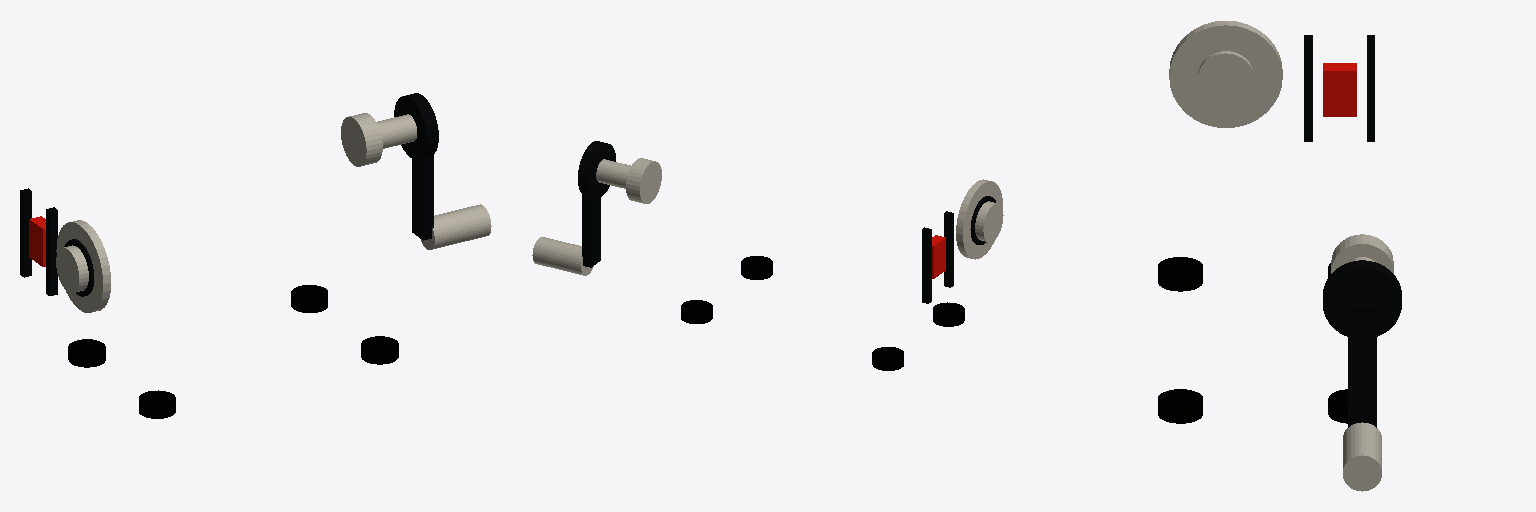
URDF robot description (compact_office_pencil_sharpener):
<robot name="compact_office_pencil_sharpener">
  <material name="mint_plastic">
    <color rgba="0.55 0.78 0.72 1" />
    </material>
  <material name="charcoal_plastic">
    <color rgba="0.05 0.055 0.06 1" />
    </material>
  <material name="smoked_tray">
    <color rgba="0.16 0.18 0.2 1" />
    </material>
  <material name="brushed_metal">
    <color rgba="0.72 0.7 0.65 1" />
    </material>
  <material name="red_selector">
    <color rgba="0.85 0.1 0.06 1" />
    </material>
  <material name="rubber">
    <color rgba="0.015 0.015 0.014 1" />
    </material>
  <link name="housing">
    <visual name="body_shell">
      <geometry>
        <mesh filename="assets/meshes/rounded_housing.obj" />
        </geometry>
      <material name="mint_plastic">
        <color rgba="0.55 0.78 0.72 1" />
        </material>
      </visual>
    <visual name="entry_bezel">
      <origin xyz="-0.082 -0.014 0.012" rpy="0 1.5708 0" />
      <geometry>
        <cylinder radius="0.02" length="0.004" />
        </geometry>
      <material name="brushed_metal">
        <color rgba="0.72 0.7 0.65 1" />
        </material>
      </visual>
    <visual name="entry_shadow">
      <origin xyz="-0.0845 -0.014 0.012" rpy="0 1.5708 0" />
      <geometry>
        <cylinder radius="0.0125" length="0.0015" />
        </geometry>
      <material name="charcoal_plastic">
        <color rgba="0.05 0.055 0.06 1" />
        </material>
      </visual>
    <visual name="inner_cutter">
      <origin xyz="-0.084 -0.014 0.012" rpy="0 1.5708 0" />
      <geometry>
        <cylinder radius="0.01" length="0.012" />
        </geometry>
      <material name="brushed_metal">
        <color rgba="0.72 0.7 0.65 1" />
        </material>
      </visual>
    <visual name="selector_rail_0">
      <origin xyz="-0.081 0.015 0.007" rpy="0 0 0" />
      <geometry>
        <box size="0.004 0.003 0.04" />
        </geometry>
      <material name="charcoal_plastic">
        <color rgba="0.05 0.055 0.06 1" />
        </material>
      </visual>
    <visual name="selector_rail_1">
      <origin xyz="-0.081 0.037 0.007" rpy="0 0 0" />
      <geometry>
        <box size="0.004 0.003 0.04" />
        </geometry>
      <material name="charcoal_plastic">
        <color rgba="0.05 0.055 0.06 1" />
        </material>
      </visual>
    <visual name="crank_bushing">
      <origin xyz="0.083 0.034 0.014" rpy="0 1.5708 0" />
      <geometry>
        <cylinder radius="0.011" length="0.008" />
        </geometry>
      <material name="brushed_metal">
        <color rgba="0.72 0.7 0.65 1" />
        </material>
      </visual>
    <visual name="foot_0">
      <origin xyz="-0.055 -0.03 -0.053" rpy="0 0 0" />
      <geometry>
        <cylinder radius="0.008" length="0.006" />
        </geometry>
      <material name="rubber">
        <color rgba="0.015 0.015 0.014 1" />
        </material>
      </visual>
    <visual name="foot_1">
      <origin xyz="-0.055 0.03 -0.053" rpy="0 0 0" />
      <geometry>
        <cylinder radius="0.008" length="0.006" />
        </geometry>
      <material name="rubber">
        <color rgba="0.015 0.015 0.014 1" />
        </material>
      </visual>
    <visual name="foot_2">
      <origin xyz="0.055 -0.03 -0.053" rpy="0 0 0" />
      <geometry>
        <cylinder radius="0.008" length="0.006" />
        </geometry>
      <material name="rubber">
        <color rgba="0.015 0.015 0.014 1" />
        </material>
      </visual>
    <visual name="foot_3">
      <origin xyz="0.055 0.03 -0.053" rpy="0 0 0" />
      <geometry>
        <cylinder radius="0.008" length="0.006" />
        </geometry>
      <material name="rubber">
        <color rgba="0.015 0.015 0.014 1" />
        </material>
      </visual>
    </link>
  <link name="tray">
    <visual name="tray_basin">
      <geometry>
        <mesh filename="assets/meshes/sliding_tray.obj" />
        </geometry>
      <material name="smoked_tray">
        <color rgba="0.16 0.18 0.2 1" />
        </material>
      </visual>
    </link>
  <link name="selector">
    <visual name="selector_tab">
      <origin xyz="-0.006 0 0" rpy="0 0 0" />
      <geometry>
        <mesh filename="assets/meshes/selector_tab.obj" />
        </geometry>
      <material name="red_selector">
        <color rgba="0.85 0.1 0.06 1" />
        </material>
      </visual>
    <visual name="selector_stem">
      <origin xyz="0.0015 0 0" rpy="0 0 0" />
      <geometry>
        <box size="0.006 0.012 0.018" />
        </geometry>
      <material name="red_selector">
        <color rgba="0.85 0.1 0.06 1" />
        </material>
      </visual>
    </link>
  <link name="crank">
    <visual name="crank_shaft">
      <origin xyz="0.01 0 0" rpy="0 1.5708 0" />
      <geometry>
        <cylinder radius="0.006" length="0.02" />
        </geometry>
      <material name="brushed_metal">
        <color rgba="0.72 0.7 0.65 1" />
        </material>
      </visual>
    <visual name="crank_hub">
      <origin xyz="0.023 0 0" rpy="0 1.5708 0" />
      <geometry>
        <cylinder radius="0.014" length="0.006" />
        </geometry>
      <material name="charcoal_plastic">
        <color rgba="0.05 0.055 0.06 1" />
        </material>
      </visual>
    <visual name="crank_arm">
      <origin xyz="0.026 0 -0.026" rpy="0 0 0" />
      <geometry>
        <box size="0.005 0.01 0.052" />
        </geometry>
      <material name="charcoal_plastic">
        <color rgba="0.05 0.055 0.06 1" />
        </material>
      </visual>
    <visual name="crank_handle">
      <origin xyz="0.042 0 -0.052" rpy="0 1.5708 0" />
      <geometry>
        <cylinder radius="0.007" length="0.028" />
        </geometry>
      <material name="brushed_metal">
        <color rgba="0.72 0.7 0.65 1" />
        </material>
      </visual>
    </link>
  <joint name="housing_to_tray" type="prismatic">
    <origin xyz="-0.08 0 -0.03" rpy="0 0 0" />
    <parent link="housing" />
    <child link="tray" />
    <axis xyz="-1 0 0" />
    <limit effort="20" velocity="0.18" lower="0" upper="0.055" />
    </joint>
  <joint name="housing_to_selector" type="prismatic">
    <origin xyz="-0.081 0.026 0.007" rpy="0 0 0" />
    <parent link="housing" />
    <child link="selector" />
    <axis xyz="0 0 1" />
    <limit effort="4" velocity="0.08" lower="-0.01" upper="0.01" />
    </joint>
  <joint name="housing_to_crank" type="continuous">
    <origin xyz="0.087 0.034 0.014" rpy="0 0 0" />
    <parent link="housing" />
    <child link="crank" />
    <axis xyz="1 0 0" />
    <limit effort="8" velocity="6" />
    </joint>
  </robot>

--- Render facts (derived) ---
3 views of the same robot in one strip: view 1: azimuth 30°, elevation 25°; view 2: azimuth 150°, elevation 25°; view 3: azimuth 270°, elevation 25° (orthographic).
Robot: compact_office_pencil_sharpener — 4 links, 3 joints (1 continuous, 2 prismatic); root link housing; default pose: all joints at 0.
Visible links, largest first — view 1: housing, crank, selector; view 2: housing, crank, selector; view 3: housing, crank, selector.
Link boxes in pixels (x1=…): housing: x1=20, y1=113, x2=398, y2=418; crank: x1=376, y1=93, x2=491, y2=249; selector: x1=29, y1=216, x2=45, y2=266; housing: x1=626, y1=158, x2=1003, y2=370; crank: x1=532, y1=141, x2=630, y2=275; selector: x1=932, y1=235, x2=945, y2=278; housing: x1=1158, y1=21, x2=1393, y2=423; crank: x1=1323, y1=257, x2=1401, y2=491; selector: x1=1323, y1=63, x2=1356, y2=116.
Size in the robot's own frame: 0.233 by 0.086 by 0.088 metres.
Meshes: 3 distinct files referenced, 0 mesh visuals loaded (none loaded); not drawn: 3 (file found but could not be loaded).
